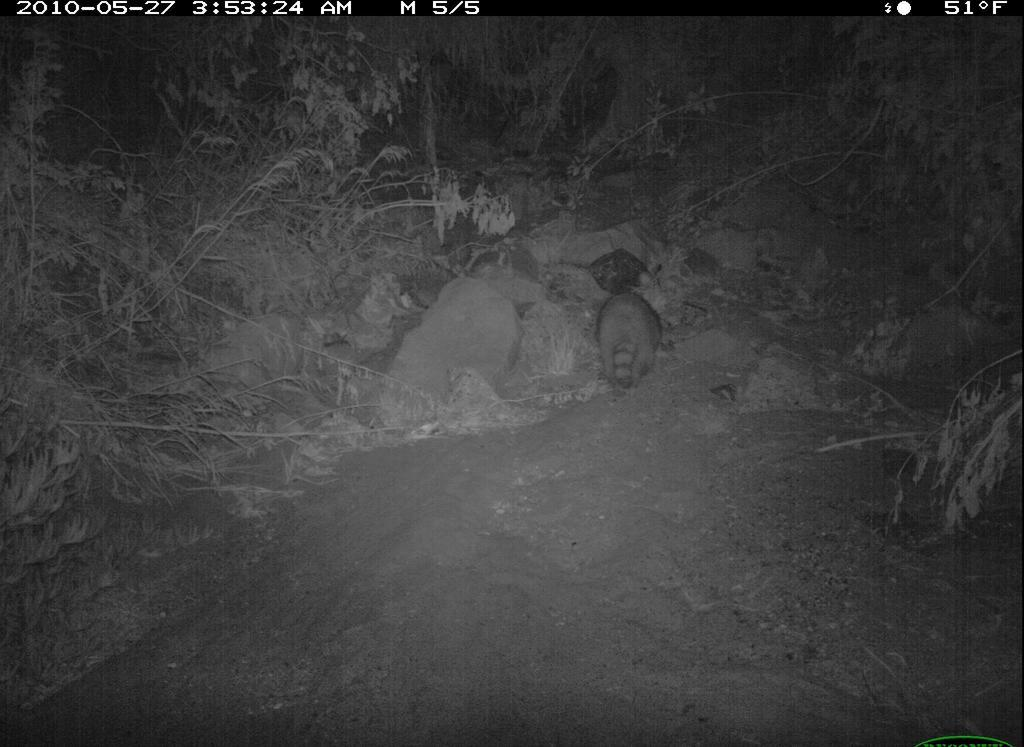raccoon: (588, 281, 678, 399)
